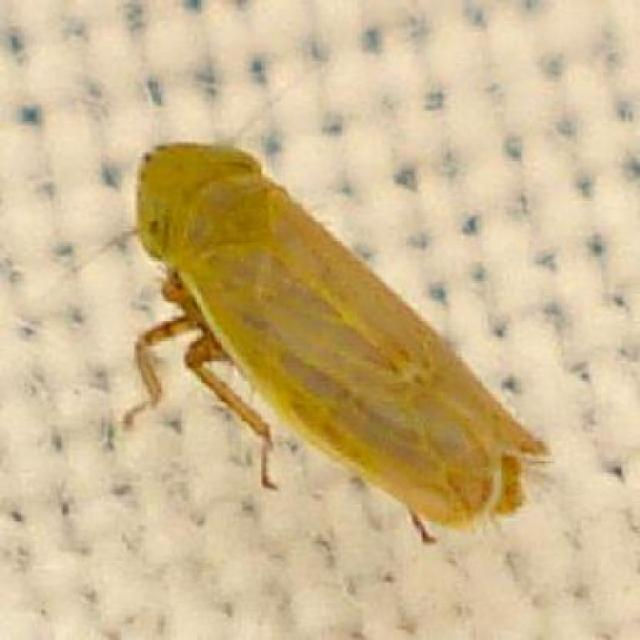green-leafhopper: (143, 148, 517, 524)
